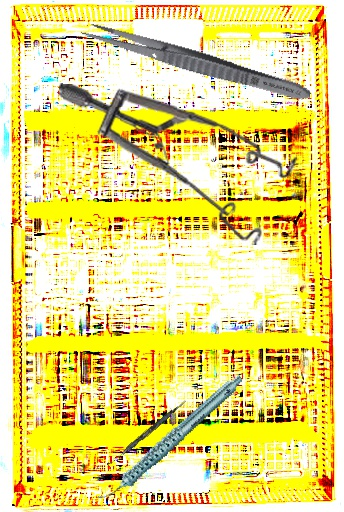Dressing Forceps: (78, 17, 314, 107)
Handpiece: (78, 374, 262, 503)
Spatula Surgical: (106, 397, 188, 469)
Speculum: (56, 83, 298, 246)
